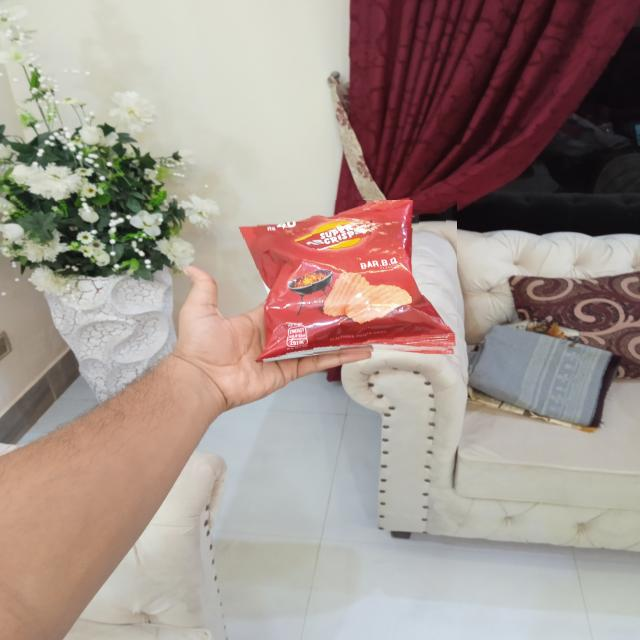Plastic: (243, 200, 457, 357)
